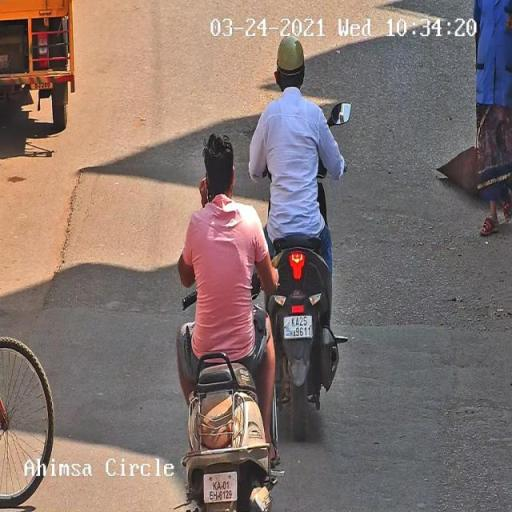numberplate: (203, 474, 240, 502)
using mobile: (199, 170, 213, 210)
